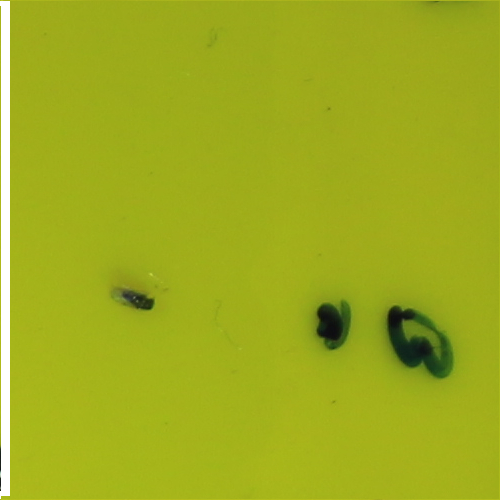Psyllaephagus: (121, 287, 156, 312)
